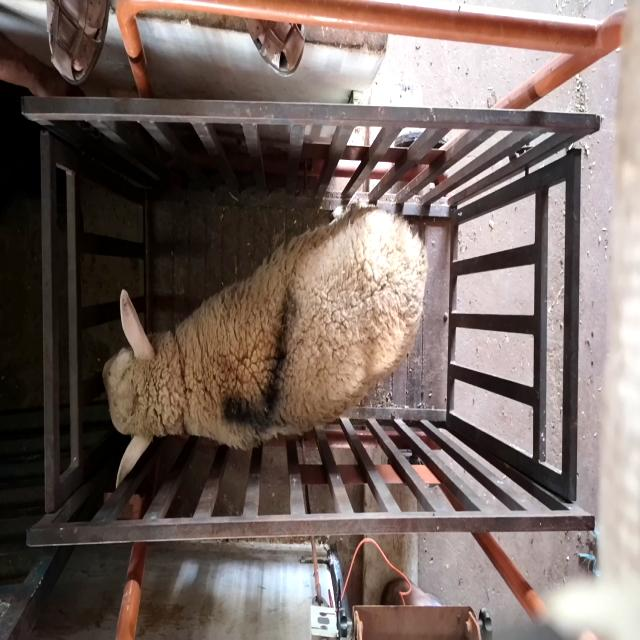sheep: (102, 200, 429, 488)
